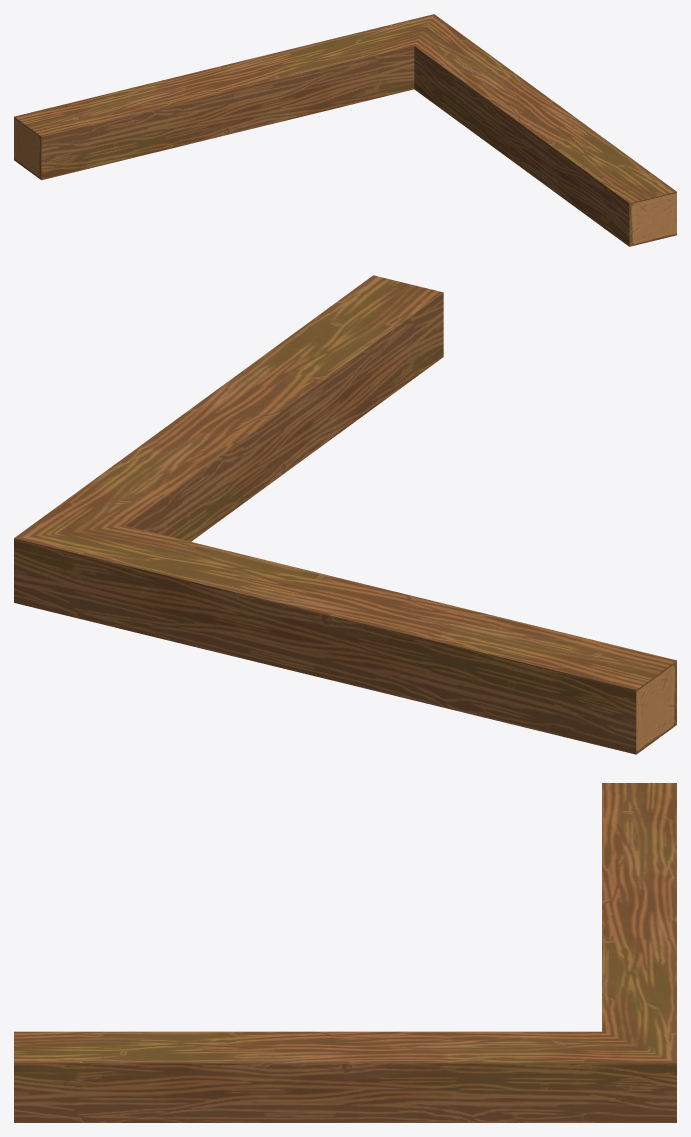
File: HoleCover_90Angle.glb
The picture shows the model from 3 angles, top to bottom: view 1: azimuth 30°, elevation 25°; view 2: azimuth 150°, elevation 25°; view 3: azimuth 270°, elevation 25°; orthographic projection. The views are drawn at different scales.
Visible parts, largest first — view 1: HoleCover_90Angle; view 2: HoleCover_90Angle; view 3: HoleCover_90Angle.
Boxes of the visible parts, bbox=[...] form: HoleCover_90Angle: bbox=[14, 14, 676, 246]; HoleCover_90Angle: bbox=[14, 275, 676, 754]; HoleCover_90Angle: bbox=[14, 783, 676, 1122].
Size of the model in its own units: 2.12 by 0.2101 by 2.12.
1 material, 1 textured.
